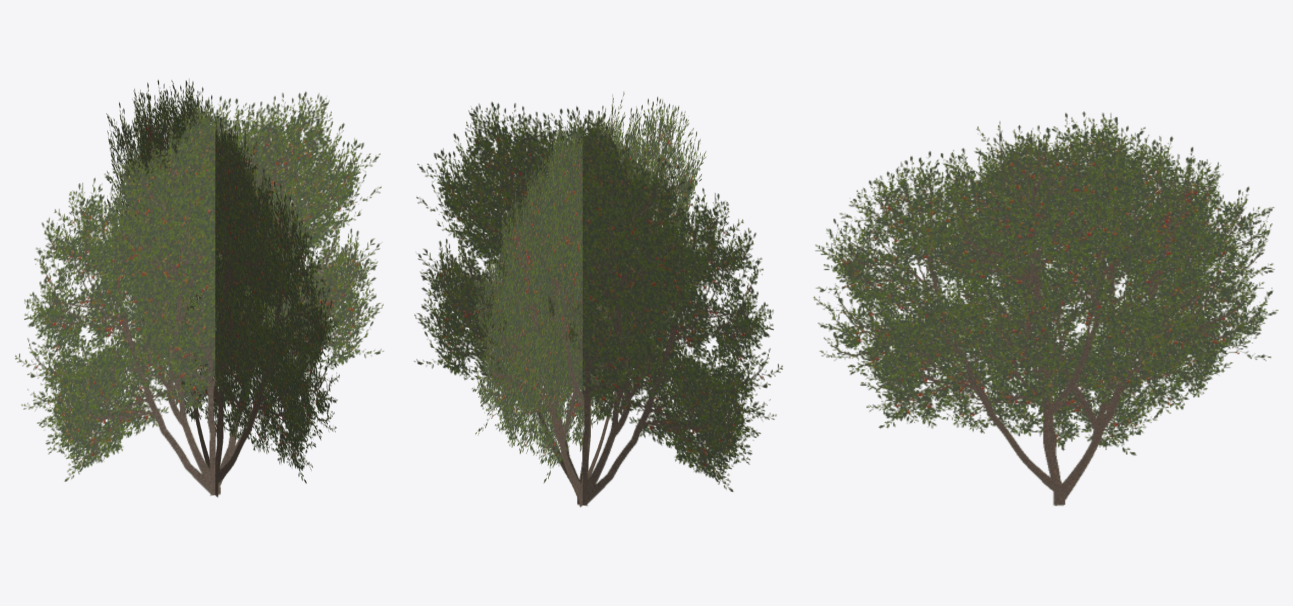
File: ArbutusUnedo.glb
The picture shows the model from 3 angles, left to right: view 1: azimuth 30°, elevation 25°; view 2: azimuth 150°, elevation 25°; view 3: azimuth 270°, elevation 25°; orthographic projection.
Visible parts, largest first — view 1: mesh__mat_billboard_9; view 2: mesh__mat_billboard_9; view 3: mesh__mat_billboard_9.
Part boxes in pixels (<box>): mesh__mat_billboard_9: <box>15,79,383,497</box>; mesh__mat_billboard_9: <box>414,91,782,507</box>; mesh__mat_billboard_9: <box>813,111,1278,505</box>.
Bounding box in the file's own units: 7.11 × 7.42 × 7.86.
1 material, 1 textured.
